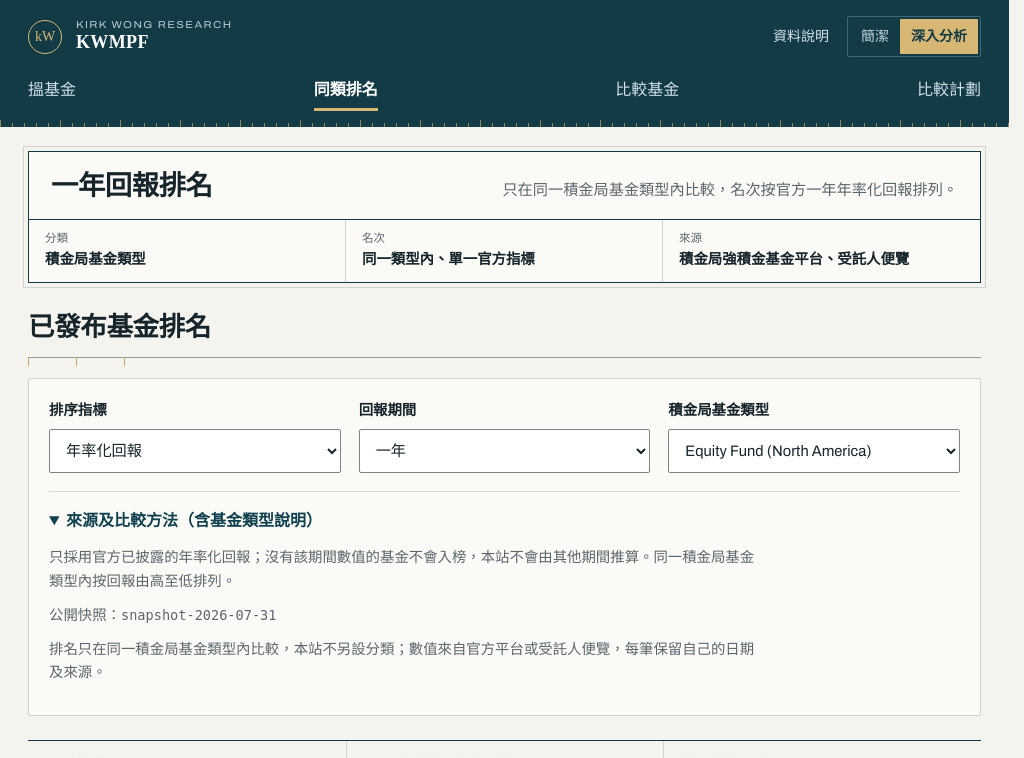
Test case: published return rankings › lets the reader rank by management fee instead of return
This screenshot has width=1024, height=758.
Select "管理費（低至高）" in the dropdown labelled "排序指標" at (195, 451), box [49,429,341,473]
(page scrolled)
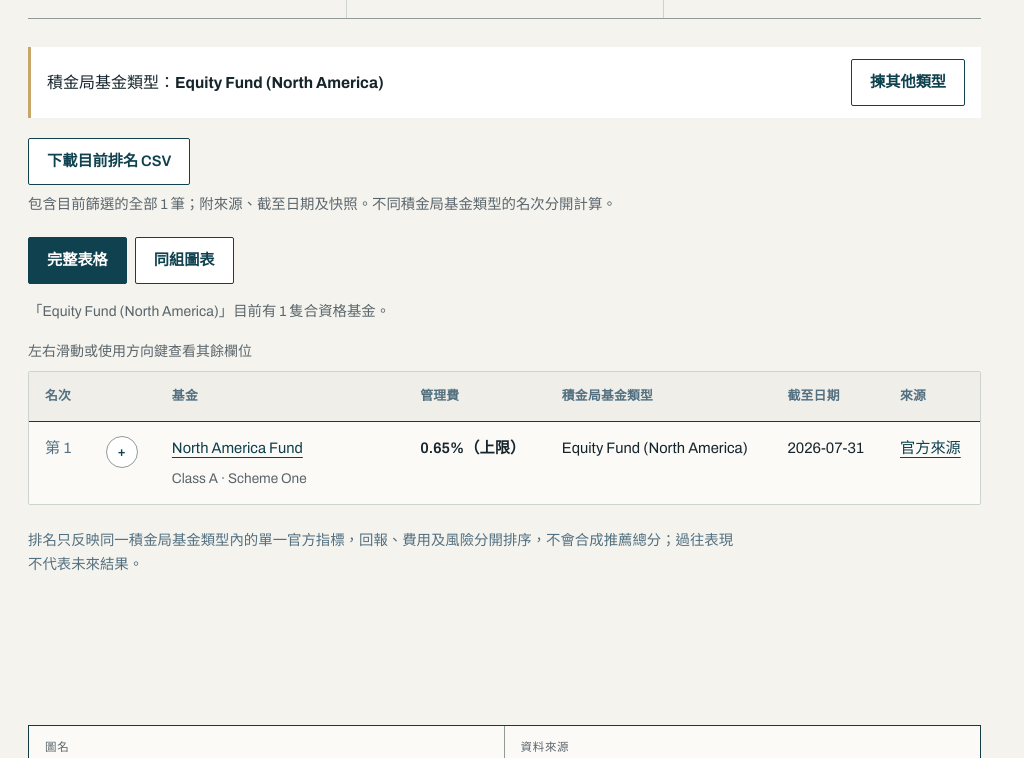
Expected: the text "0.65%（上限）" is shown, [404,422,546,504]
Expected: the column heading "管理費" is shown, [404,372,546,422]
Expected: the label labelled "回報期間" is gone
